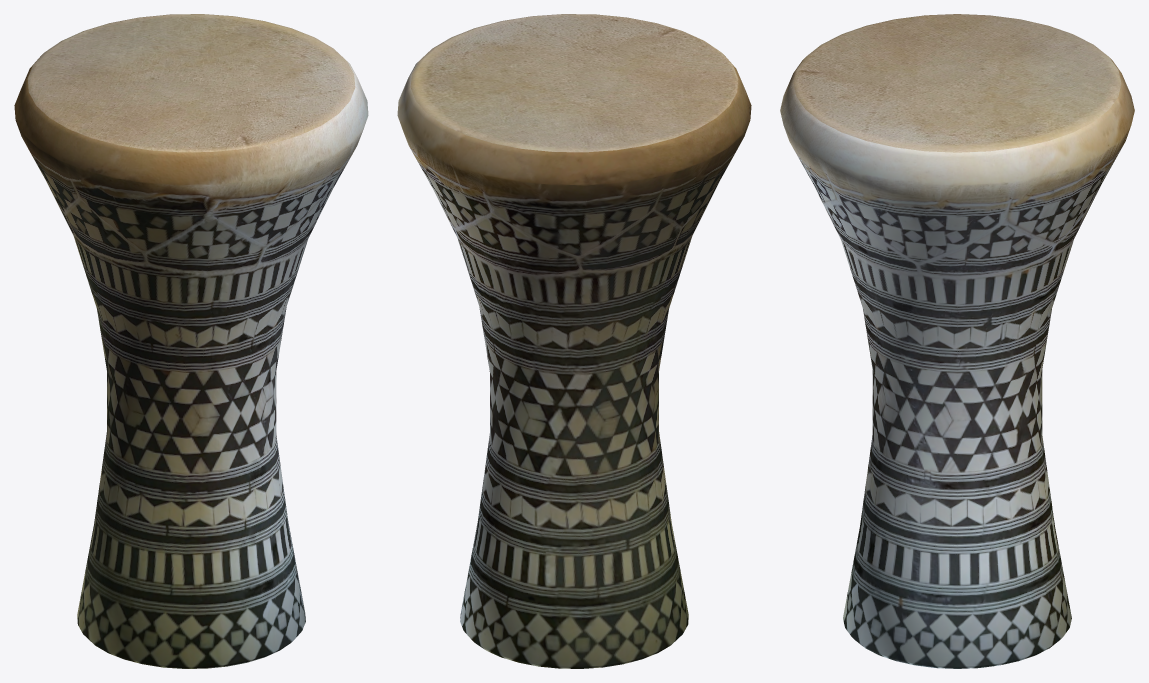
Rendered from Drum_Bongo_3D_Scan_Clean_Low_Poly.glb.
3 views of the same model, side by side, from view 1: azimuth 30°, elevation 25°; view 2: azimuth 150°, elevation 25°; view 3: azimuth 270°, elevation 25° (orthographic).
Parts seen in each view (by area): view 1: Drum_DrumMat_0; view 2: Drum_DrumMat_0; view 3: Drum_DrumMat_0.
Boxes of the visible parts, x1,y1,x2,y2 form: Drum_DrumMat_0: (14,14,368,668); Drum_DrumMat_0: (397,14,751,668); Drum_DrumMat_0: (780,14,1134,668).
Size of the model in its own units: 0.5155 by 0.8664 by 0.5155.
2 materials, 1 textured.
